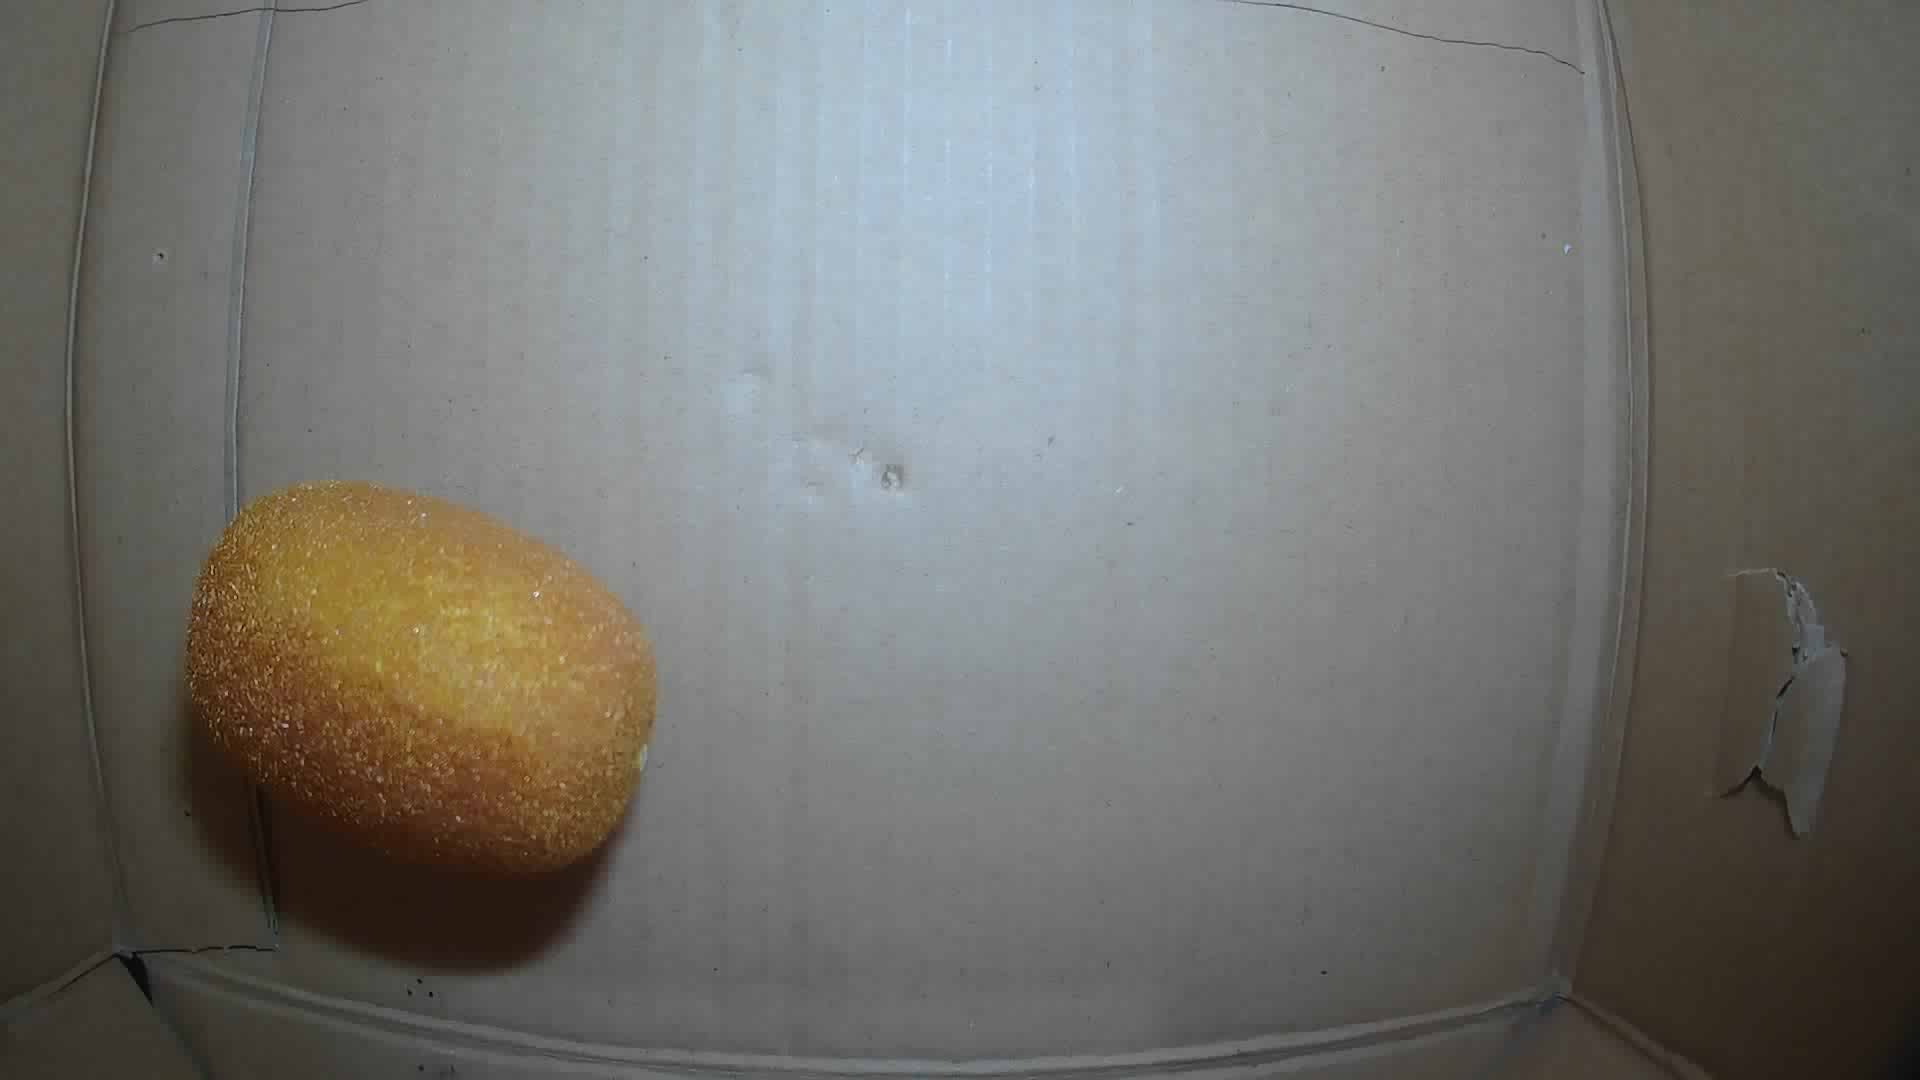kiwi: (178, 484, 655, 886)
